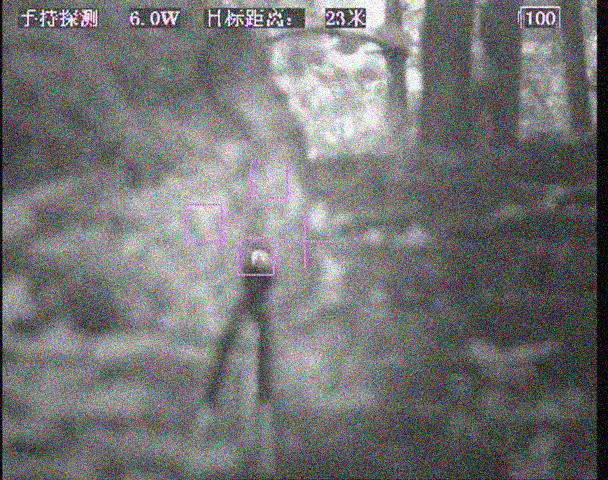my: (248, 246, 271, 269)
